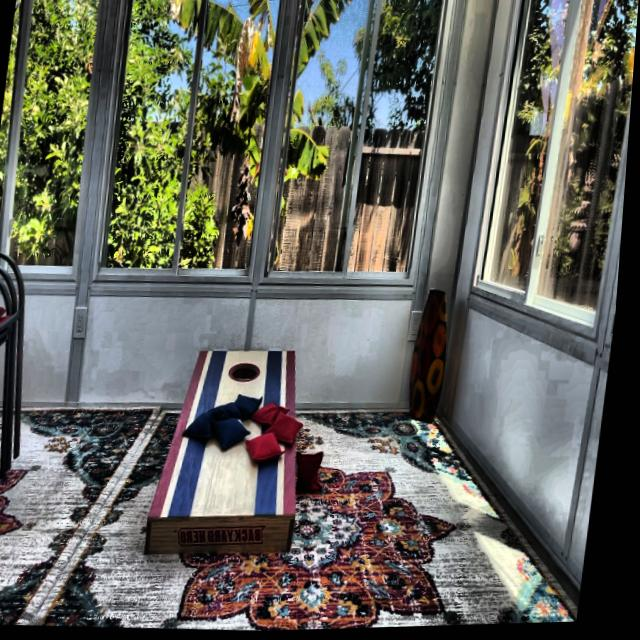blue-bean-bag: (209, 402, 255, 436), (216, 418, 260, 453), (189, 413, 228, 441), (236, 395, 268, 421)
board: (176, 347, 310, 518)
hole: (233, 362, 268, 385)
red-bean-bag: (300, 451, 335, 496), (250, 431, 295, 464), (270, 412, 312, 447), (257, 403, 297, 429)
